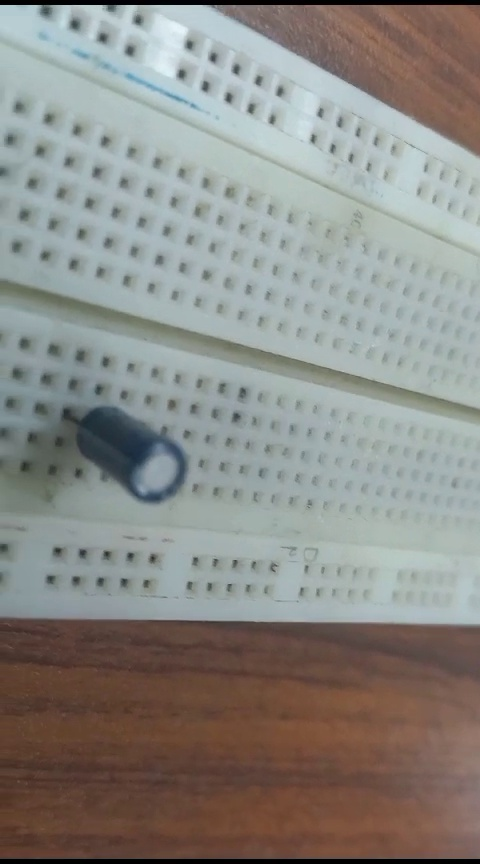capacitor: (63, 385, 203, 517)
